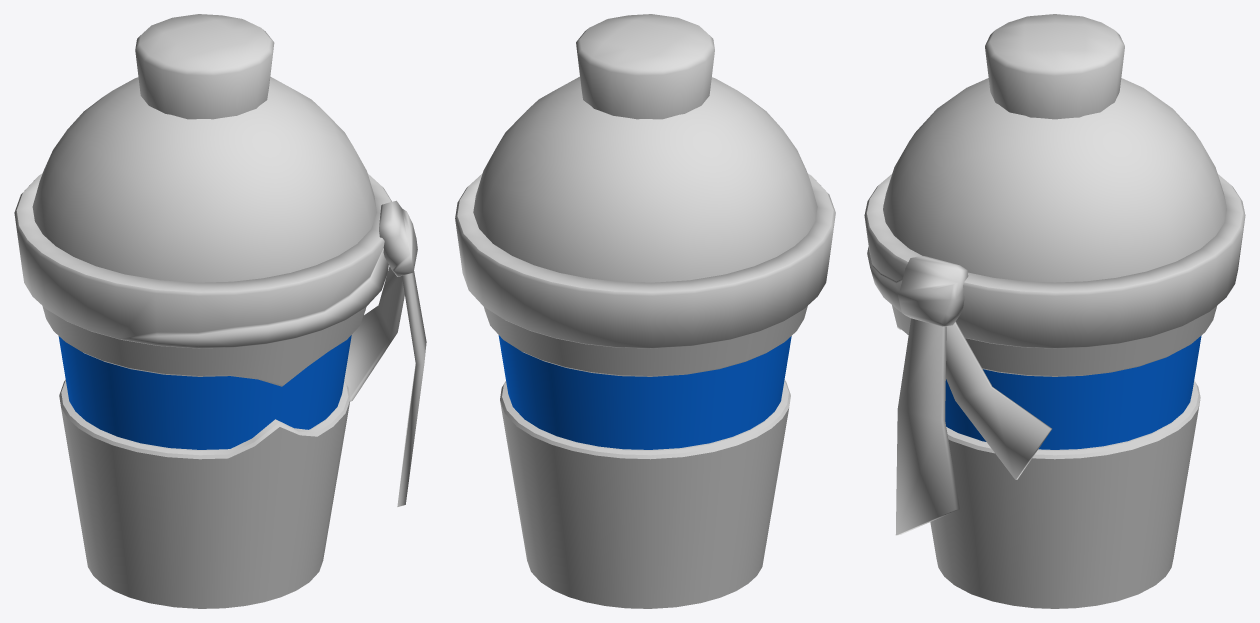
Rendered from Ninja_Body_Scrub.fbx.
3 renders of one model, left to right at view 1: azimuth 30°, elevation 25°; view 2: azimuth 150°, elevation 25°; view 3: azimuth 270°, elevation 25°, orthographic.
Parts seen in each view (by area): view 1: SM_Ninja_Body_Scrub_low.001; view 2: SM_Ninja_Body_Scrub_low.001; view 3: SM_Ninja_Body_Scrub_low.001.
Boxes of the visible parts, x1,y1,x2,y2 form: SM_Ninja_Body_Scrub_low.001: [14, 14, 426, 608]; SM_Ninja_Body_Scrub_low.001: [455, 14, 835, 608]; SM_Ninja_Body_Scrub_low.001: [864, 14, 1245, 608].
Size of the model in its own units: 39.3 by 59.57 by 39.3.
